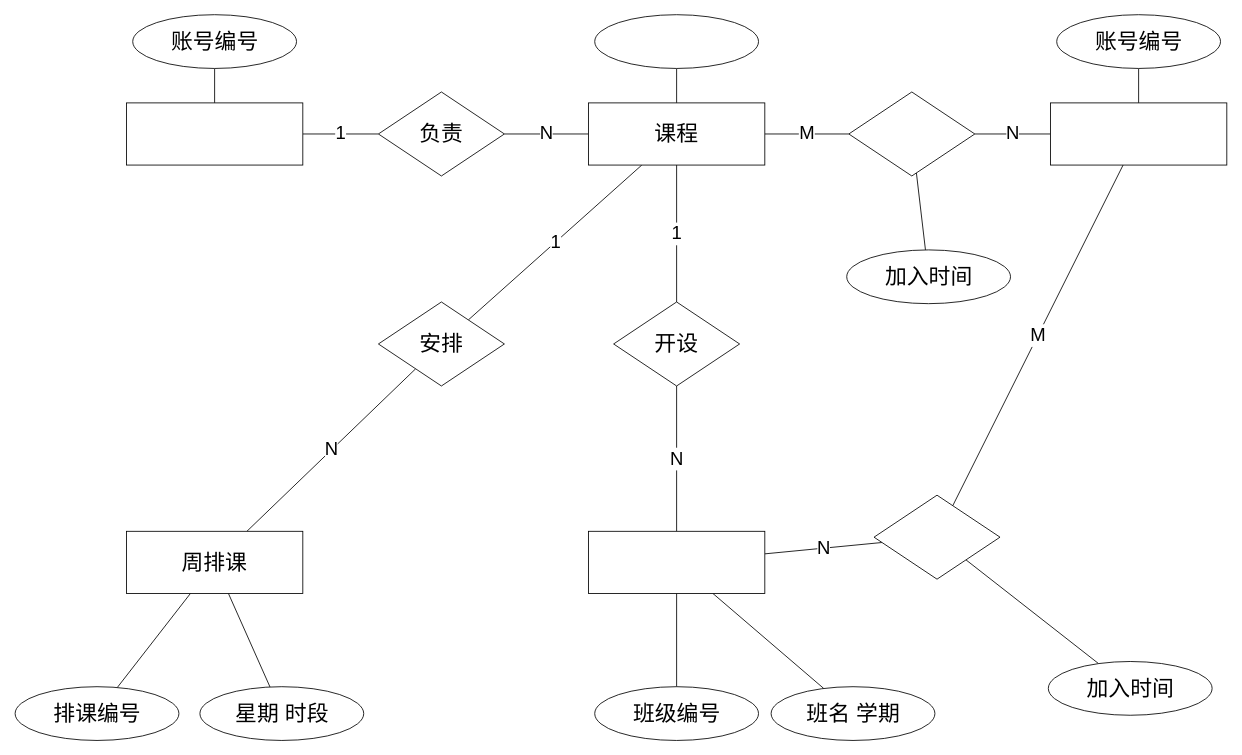
Some shapes in this 1242 by 755 pixel diagram are drawn without their labels. Each missing label, with the centre of its shape:
加入: [936,536]
教学班: [676,561]
课程编号: [676,41]
账号（学生）: [1138,133]
账号（教师）: [214,133]
选课: [911,133]
